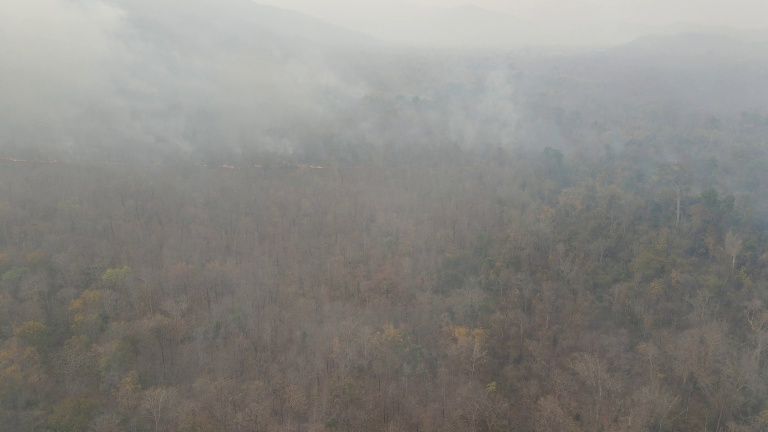fire: (1, 146, 337, 178)
smoke: (1, 1, 768, 171)
